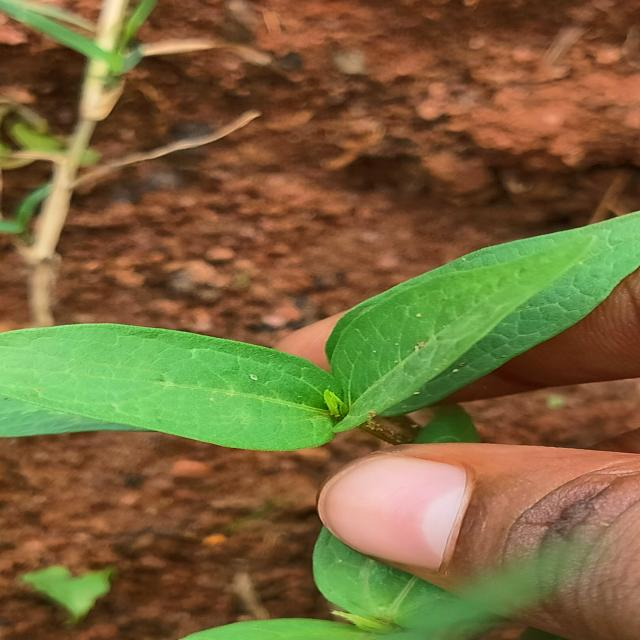Black gram_healthy: (333, 210, 640, 424), (0, 322, 335, 451)
